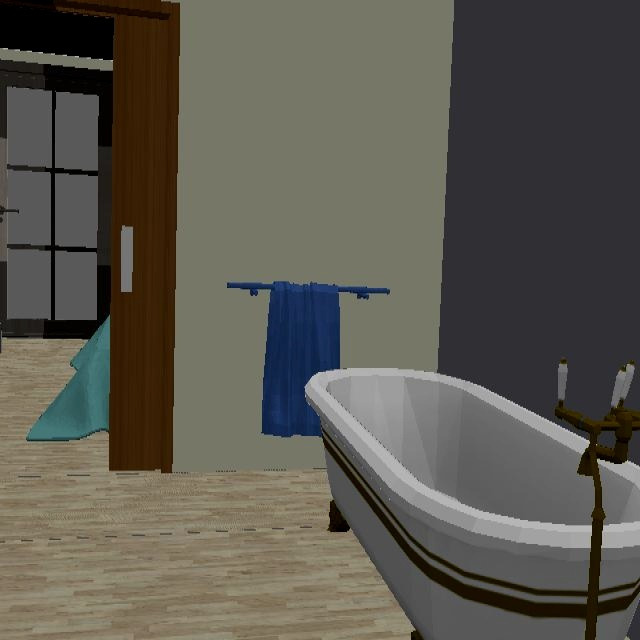bathtube: (305, 370, 594, 638), (596, 462, 640, 638)
bed: (26, 317, 109, 439)
